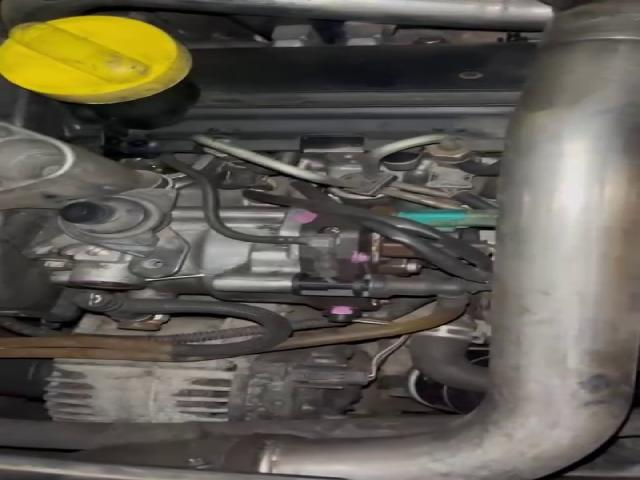alternator: (44, 355, 256, 422)
high_pressure_pump: (26, 206, 389, 322)
